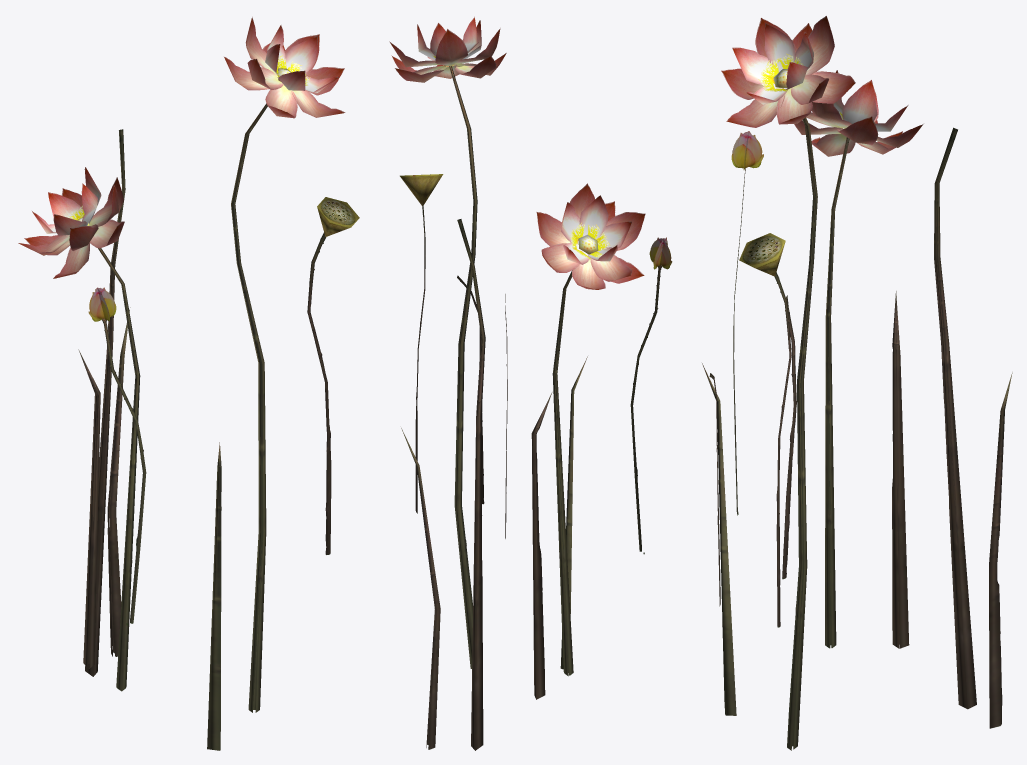
File: ZYtree_gg_hehua02.FBX
The picture shows the model from 3 angles, left to right: view 1: azimuth 30°, elevation 25°; view 2: azimuth 150°, elevation 25°; view 3: azimuth 270°, elevation 25°; orthographic projection. The views are drawn at different scales.
Parts seen in each view (by area): view 1: ZYtree_gg_hehua02; view 2: ZYtree_gg_hehua02; view 3: ZYtree_gg_hehua02.
Boxes of the visible parts, x1=… form: ZYtree_gg_hehua02: x1=18, y1=17, x2=359, y2=750; ZYtree_gg_hehua02: x1=389, y1=16, x2=672, y2=750; ZYtree_gg_hehua02: x1=702, y1=16, x2=1012, y2=750.
Bounding box in the file's own units: 255 × 568 × 216.
